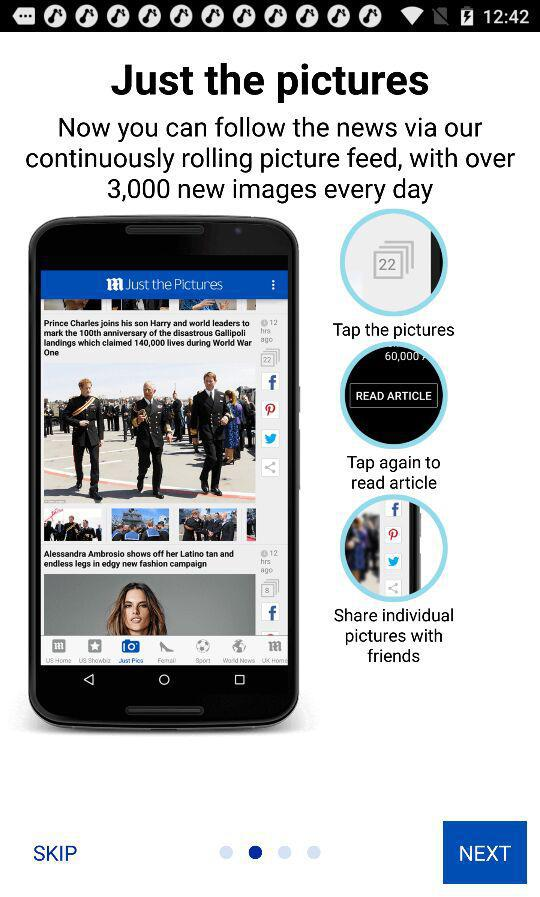Image: (29, 215, 301, 733), (340, 341, 449, 450), (340, 209, 449, 317), (340, 495, 448, 603)
PageIndicator: (219, 845, 323, 860)
Text: (26, 118, 516, 205), (111, 63, 430, 105), (334, 608, 455, 664), (345, 455, 443, 491), (333, 323, 456, 340), (33, 844, 79, 863)
TextButton: (443, 821, 527, 884)
UpperTaskBar: (1, 1, 540, 33)
